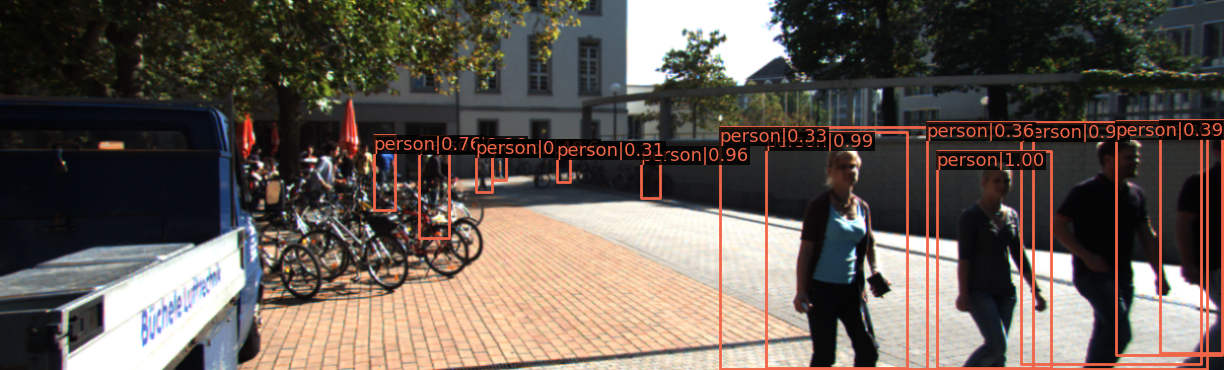person: (757, 142, 932, 370), (1034, 130, 1155, 370), (1125, 130, 1224, 370), (940, 160, 1050, 370), (310, 140, 344, 251), (421, 141, 443, 204), (640, 145, 659, 202)
